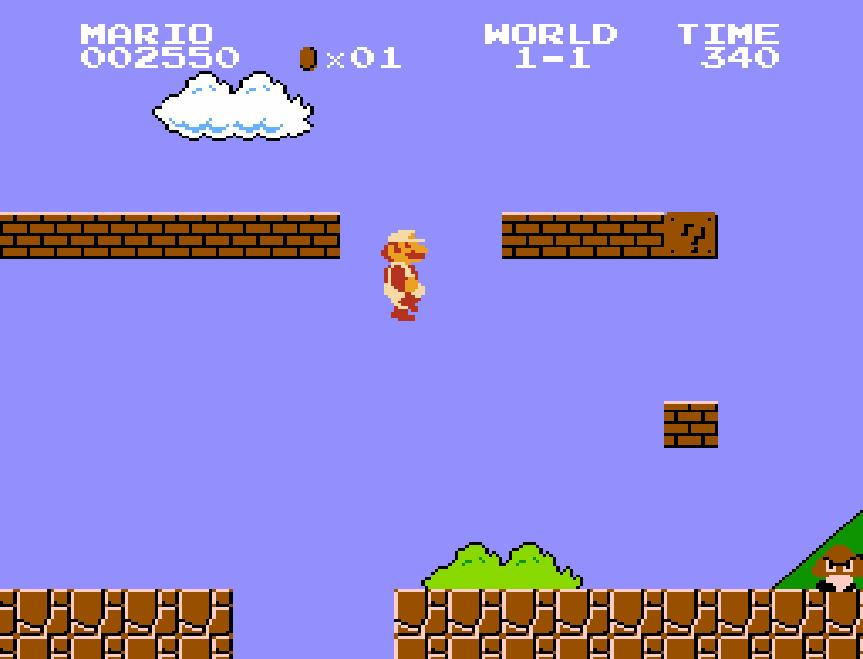fire_mario: (376, 224, 434, 322)
